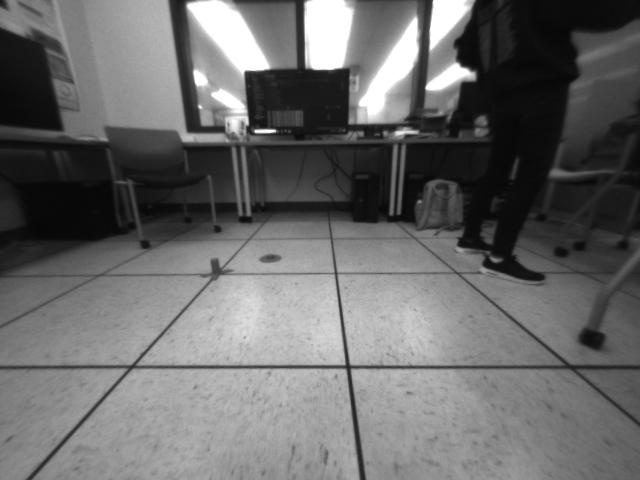X: (198, 257, 235, 282)
